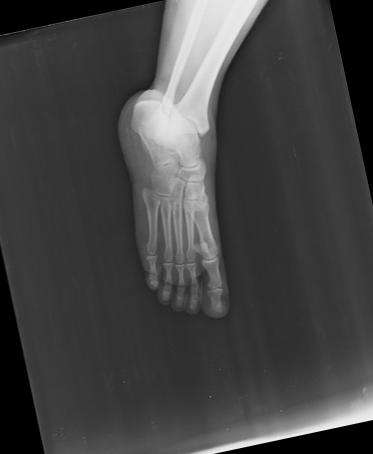fractured: (190, 181, 210, 210)
